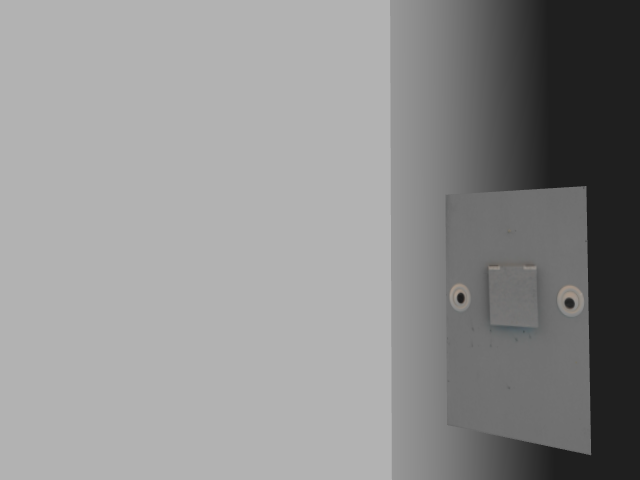facade: (448, 262, 585, 332)
